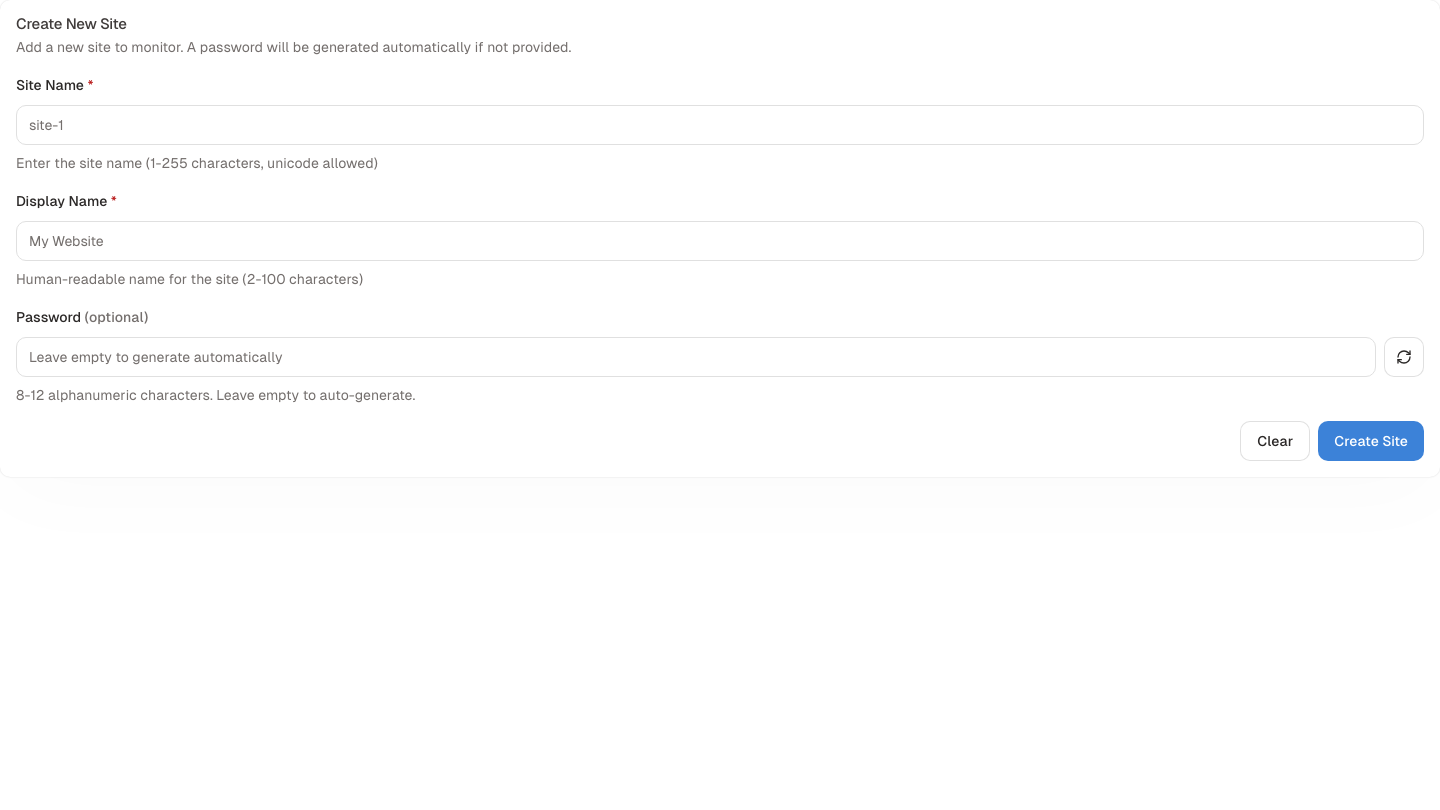
Scenario: CreateSiteForm › Clear Button › should clear generated password alert
Click the button titled "Generate password" at (1404, 357), box 1384,337 -> 1424,377
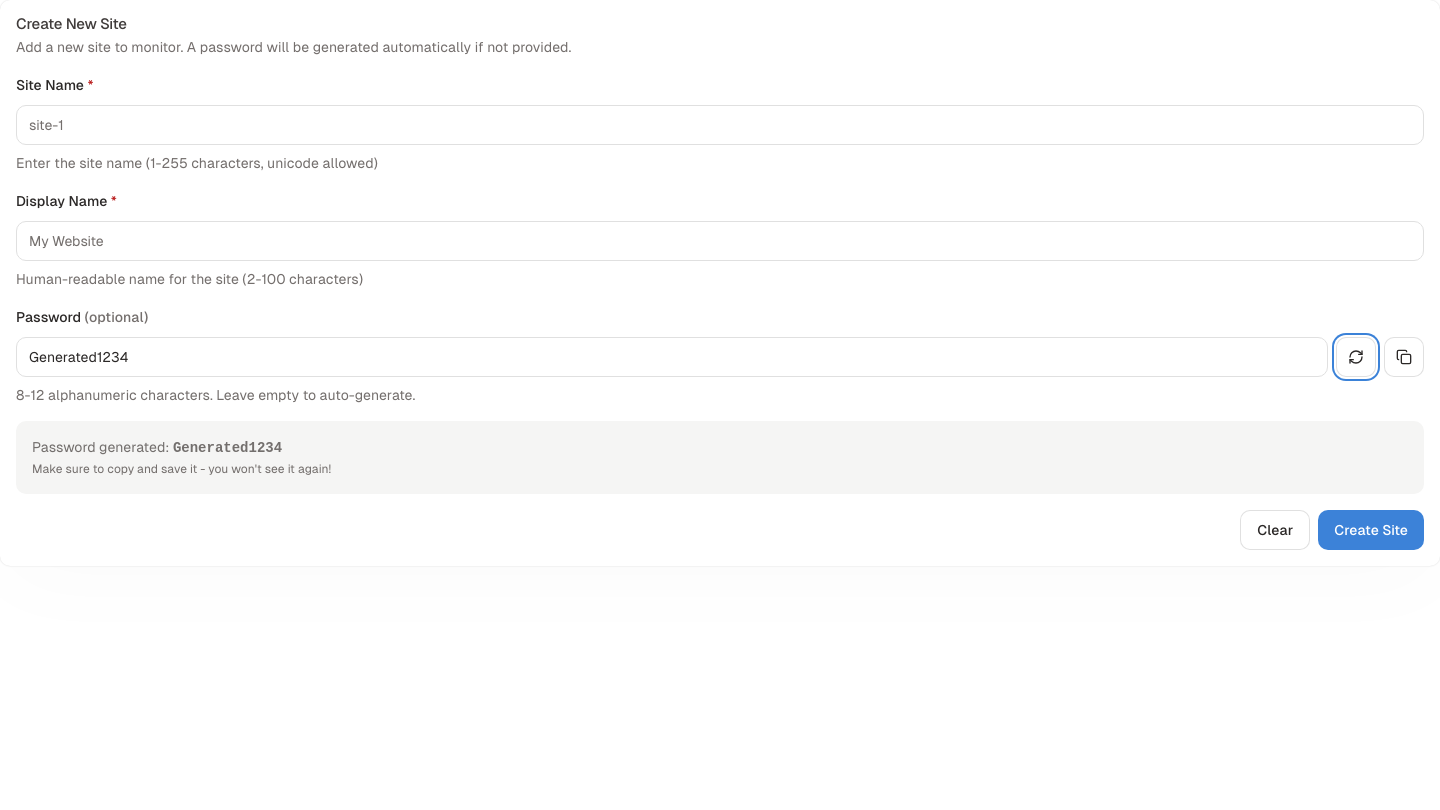
Result: the text "Password generated" is shown at 32,439 -> 173,455
Click the button "Clear" at (1275, 530), box 1240,510 -> 1310,550
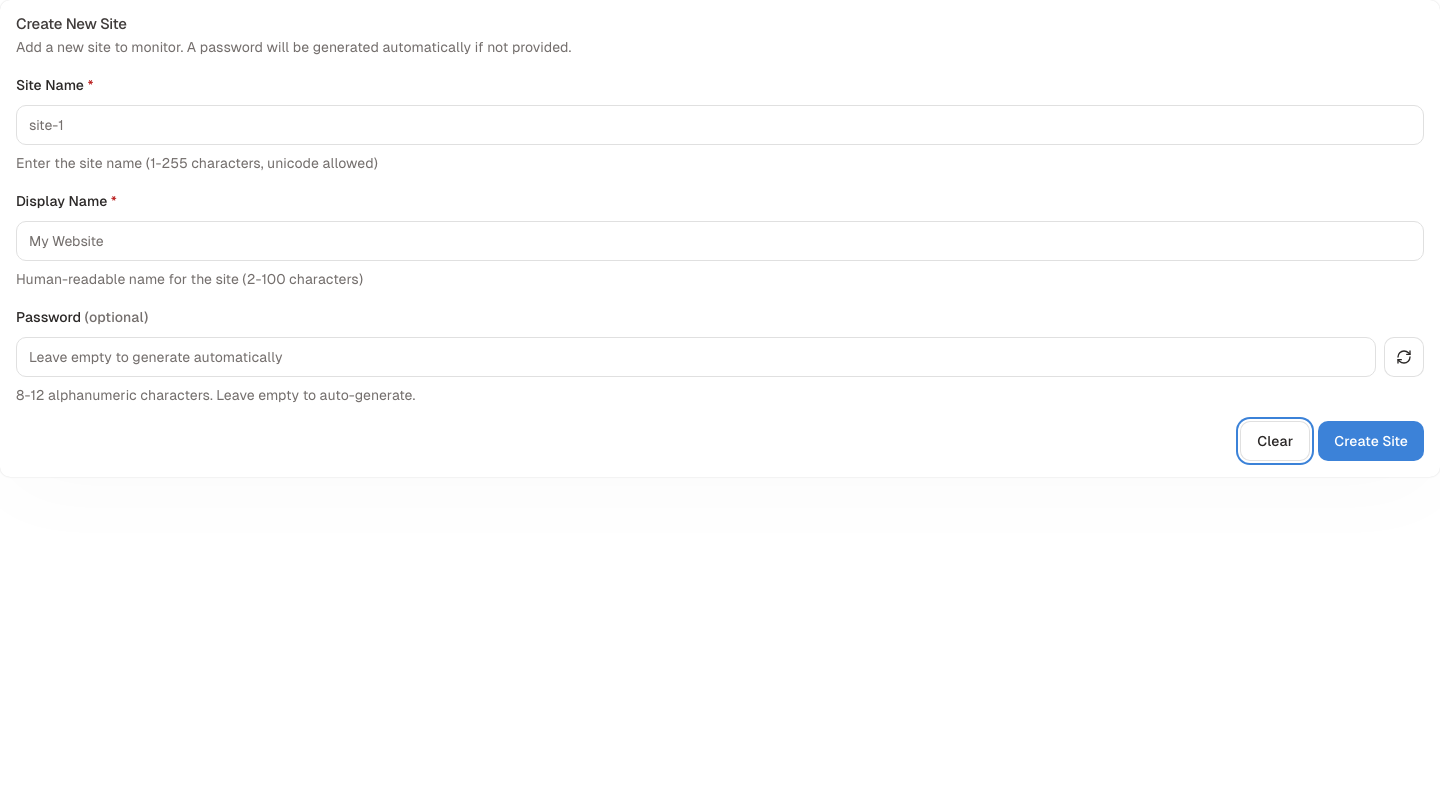
Result: the text "Password generated" is gone
